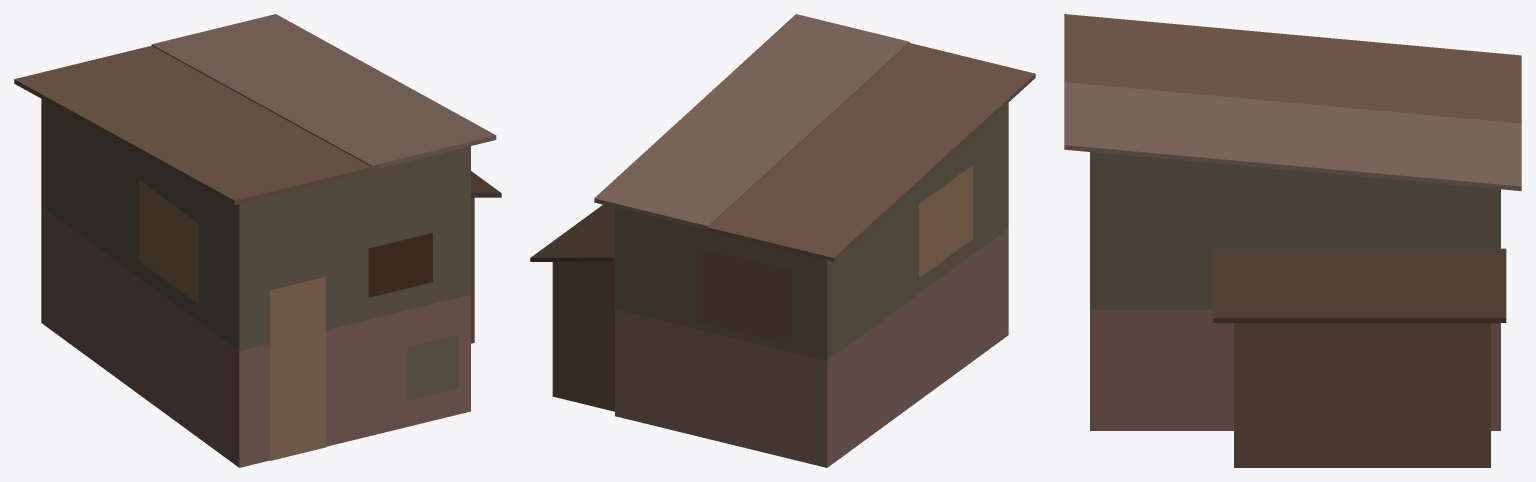
Rendered from fill4.fbx.
The picture shows the model from 3 angles, left to right: view 1: azimuth 30°, elevation 25°; view 2: azimuth 150°, elevation 25°; view 3: azimuth 270°, elevation 25°; orthographic projection. The views are drawn at different scales.
Visible parts, largest first — view 1: a2014/0/fill4; view 2: a2014/0/fill4; view 3: a2014/0/fill4.
Part boxes in pixels (x1=…): a2014/0/fill4: x1=14, y1=14, x2=501, y2=467; a2014/0/fill4: x1=530, y1=14, x2=1035, y2=467; a2014/0/fill4: x1=1064, y1=14, x2=1521, y2=467.
Size of the model in its own units: 3.95 by 3.14 by 4.45.
